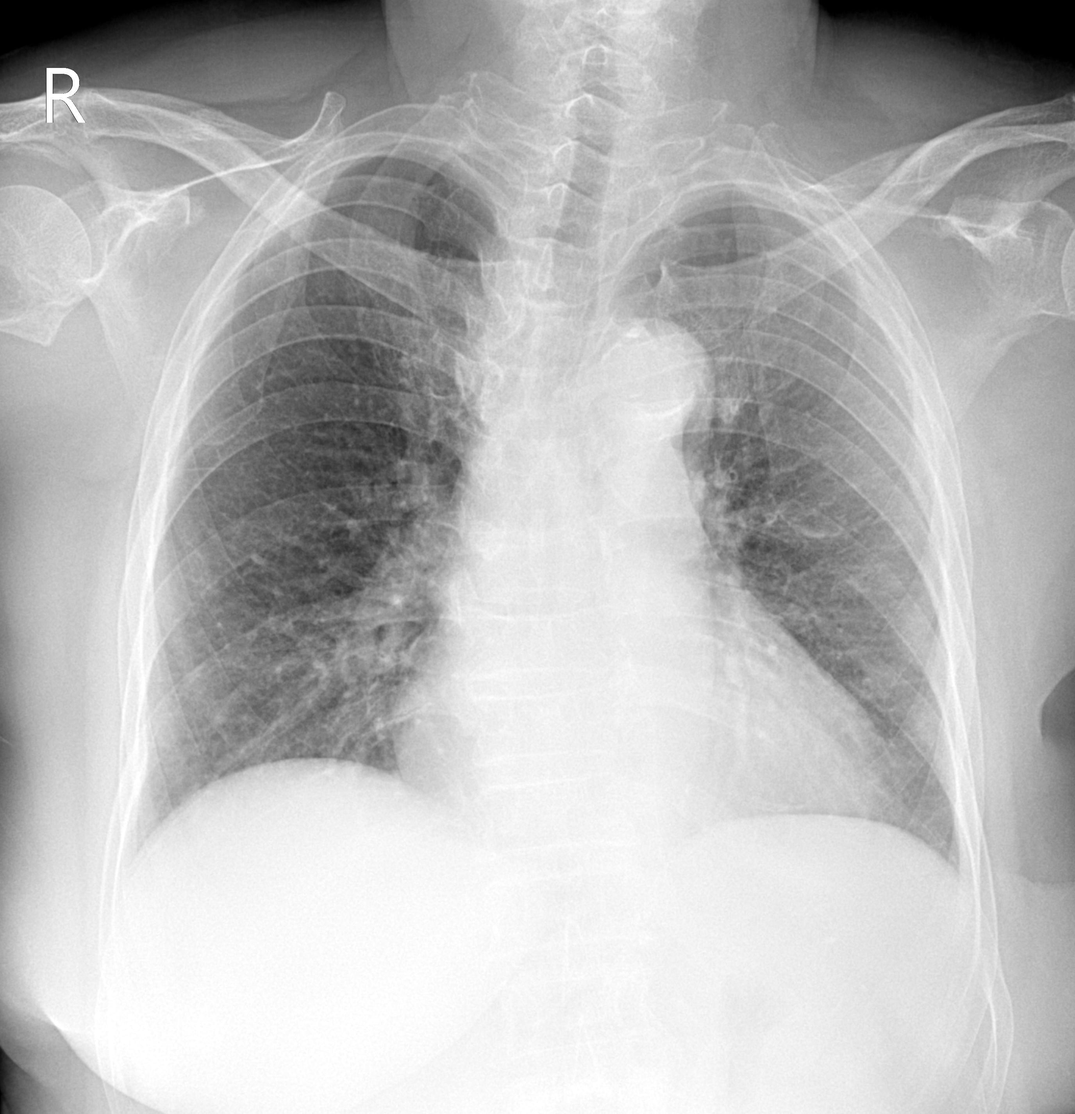Aortic enlargement: (582, 315, 719, 461)
Cardiomegaly: (386, 693, 902, 834)
